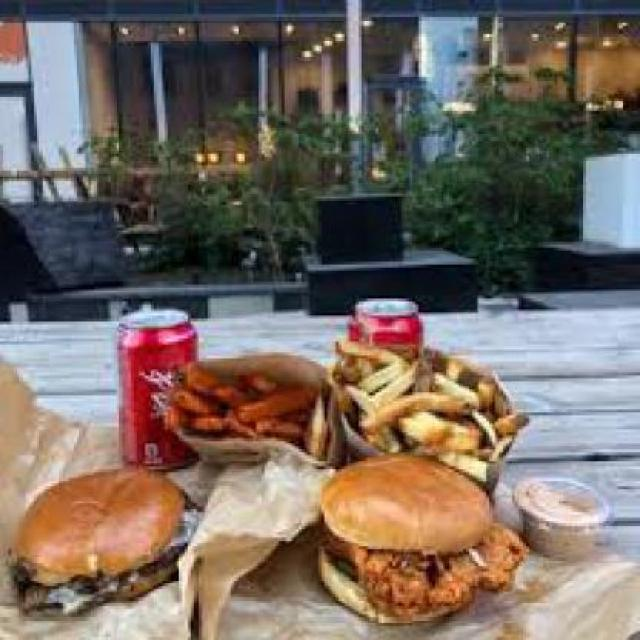french fries: (344, 339, 524, 463)
hamburger: (12, 472, 520, 630)
sweet potato: (165, 338, 327, 458)
